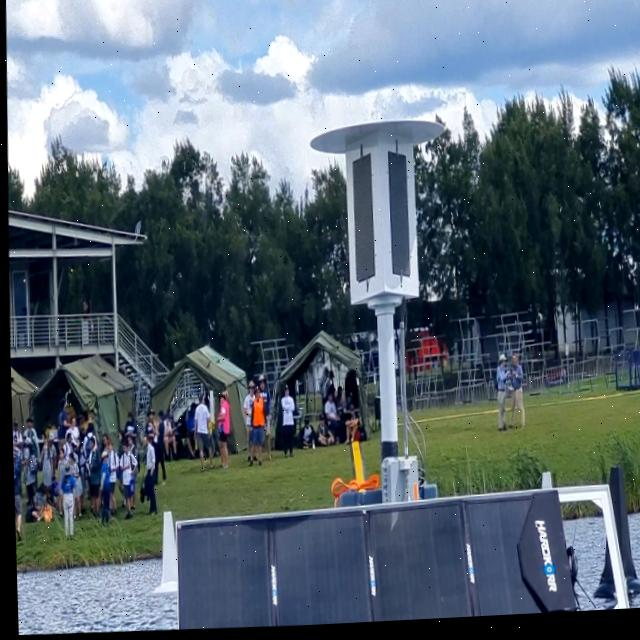led: (377, 145, 415, 294), (344, 148, 381, 296)
